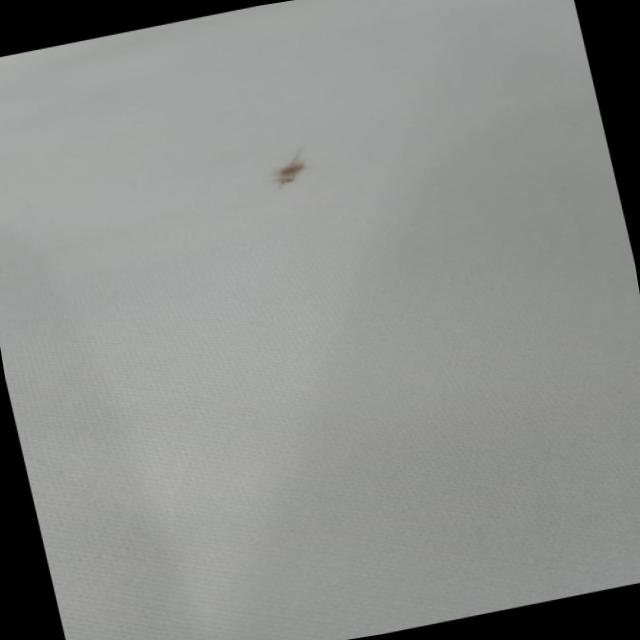stain: (252, 141, 328, 200)
